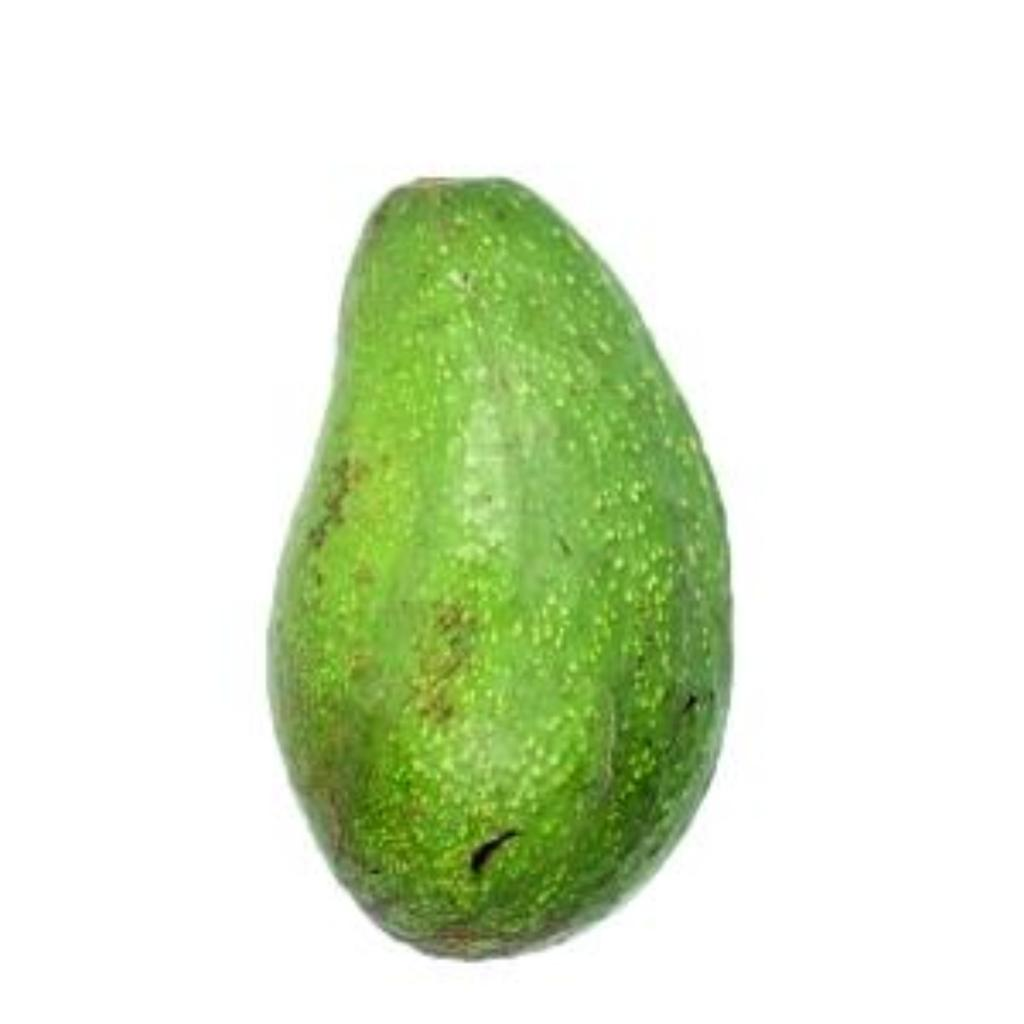cercospora: (271, 140, 756, 963)
